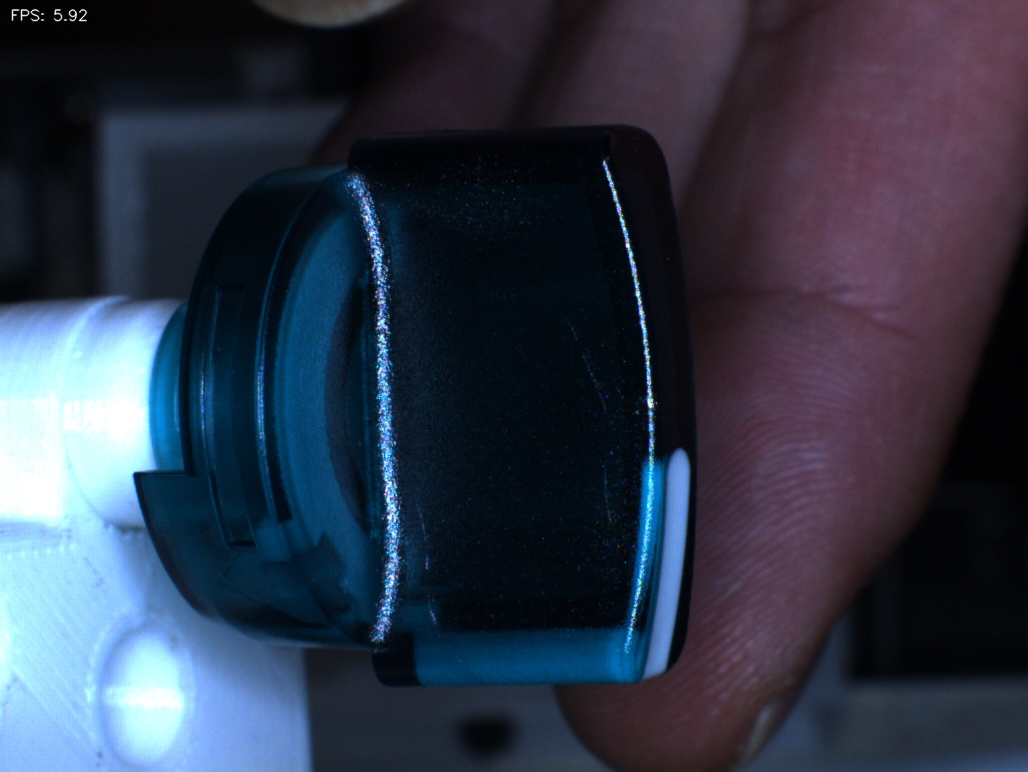Givrage: (394, 482, 463, 636), (548, 310, 632, 423), (555, 447, 629, 545)
